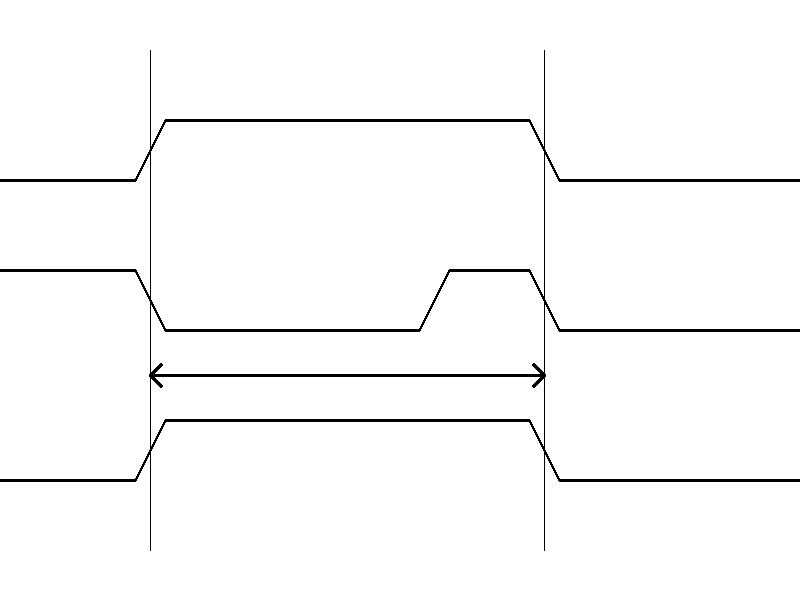double_arrow: (150, 360, 544, 390)
